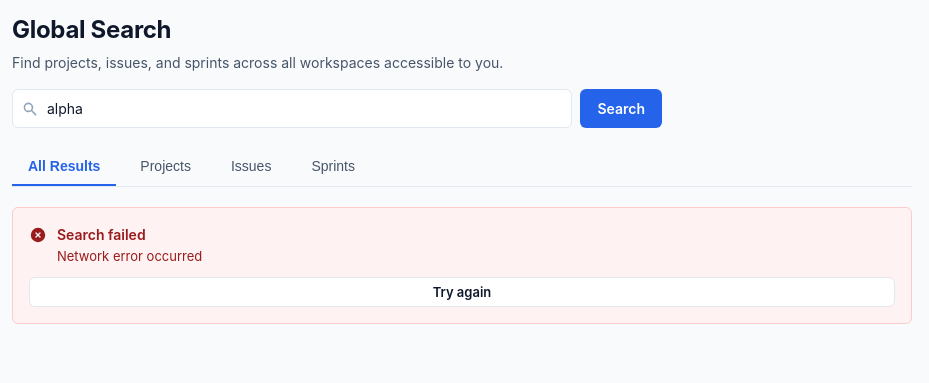
Test case: SearchPage Component › displays error state and retries on failure
Expected: the heading "Search failed" is shown, [57, 226, 146, 243]
Expected: the text "Network error occurred" is shown, [57, 248, 202, 264]
Click the button "Try again": click(462, 292) [29, 277, 895, 307]
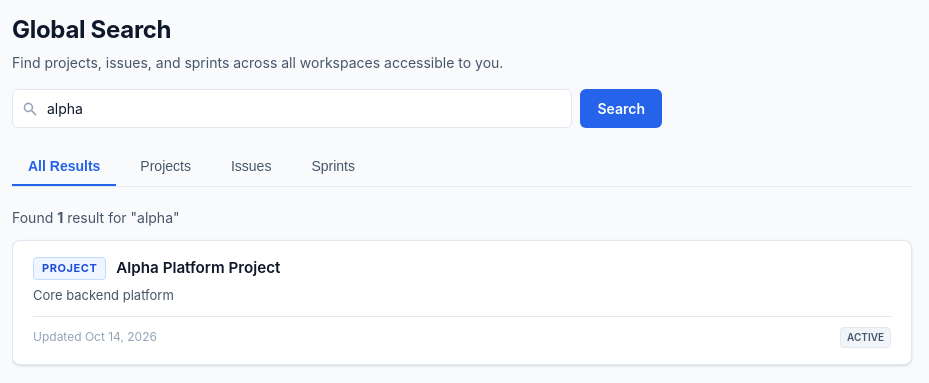
Expected: the heading "Alpha Platform Project" is shown, [116, 257, 280, 280]
